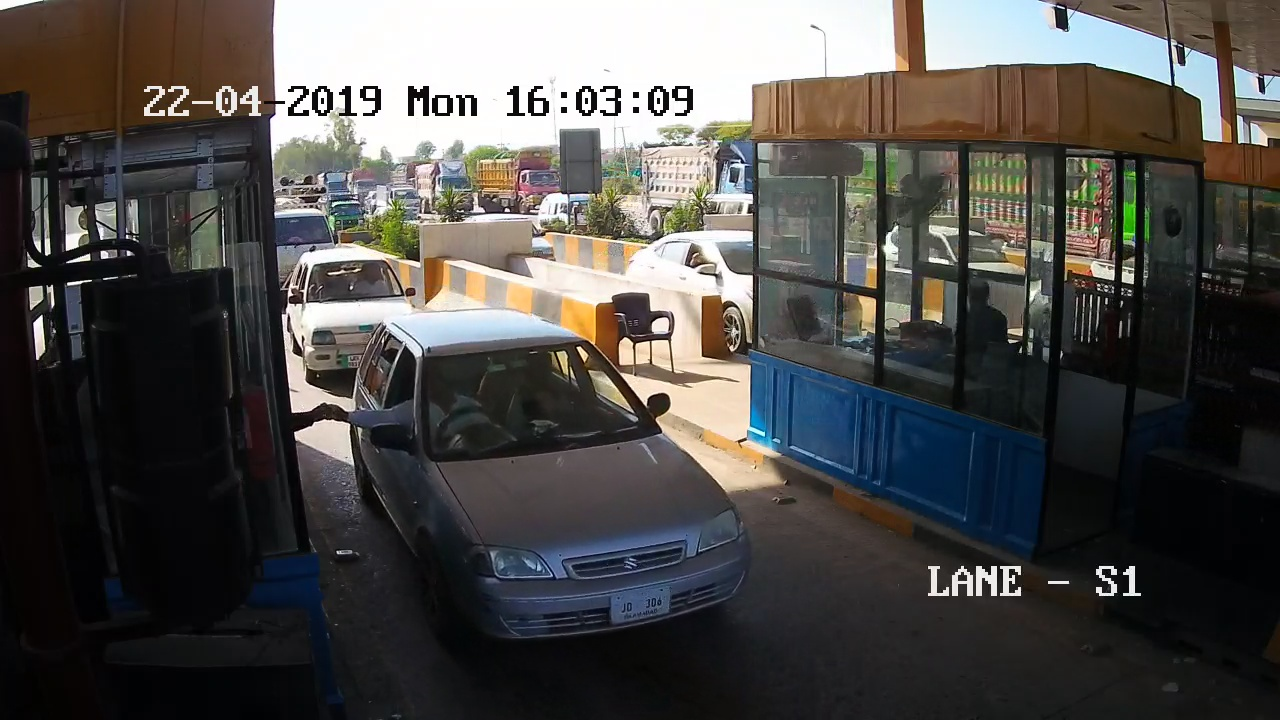Number Plate (Car): (608, 591, 669, 621)
